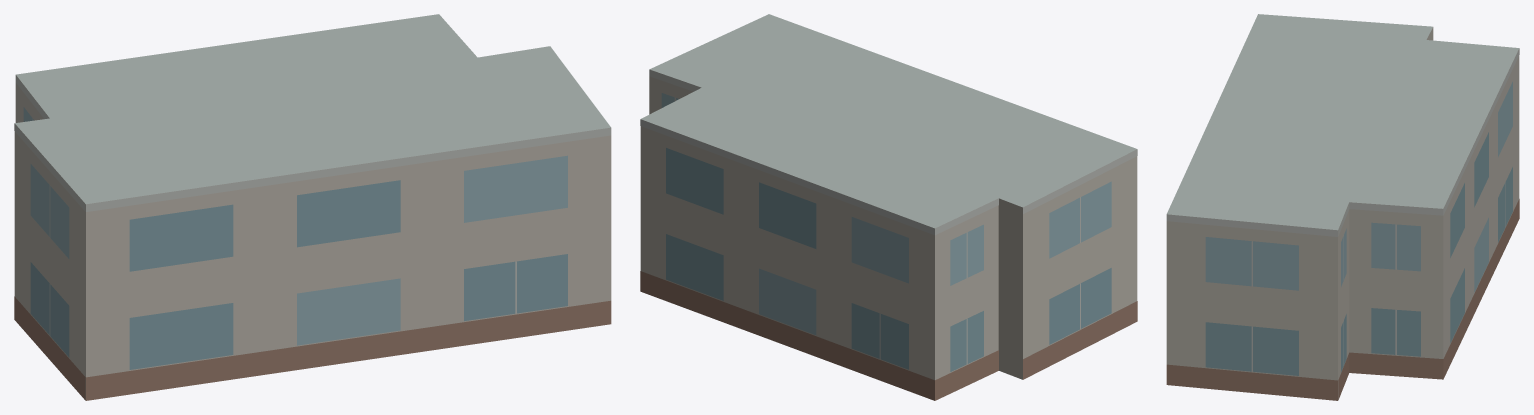
The model's file is survey-upis-32660117.glb.
3 renders of one model, left to right at view 1: azimuth 30°, elevation 25°; view 2: azimuth 150°, elevation 25°; view 3: azimuth 270°, elevation 25°, orthographic. The views are drawn at different scales.
Parts seen in each view (by area): view 1: survey-upis-32660117.tmp; view 2: survey-upis-32660117.tmp; view 3: survey-upis-32660117.tmp.
Part boxes in pixels (x1=…): survey-upis-32660117.tmp: x1=14, y1=14, x2=611, y2=400; survey-upis-32660117.tmp: x1=640, y1=14, x2=1137, y2=400; survey-upis-32660117.tmp: x1=1166, y1=14, x2=1519, y2=400.
Size of the model in its own units: 16.59 by 6.1 by 11.44.
